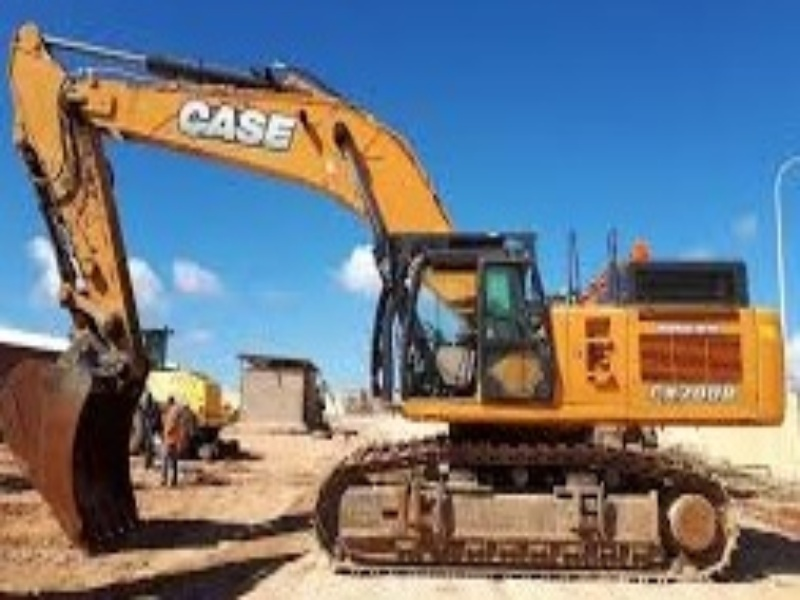wajueji: (298, 153, 800, 592)
